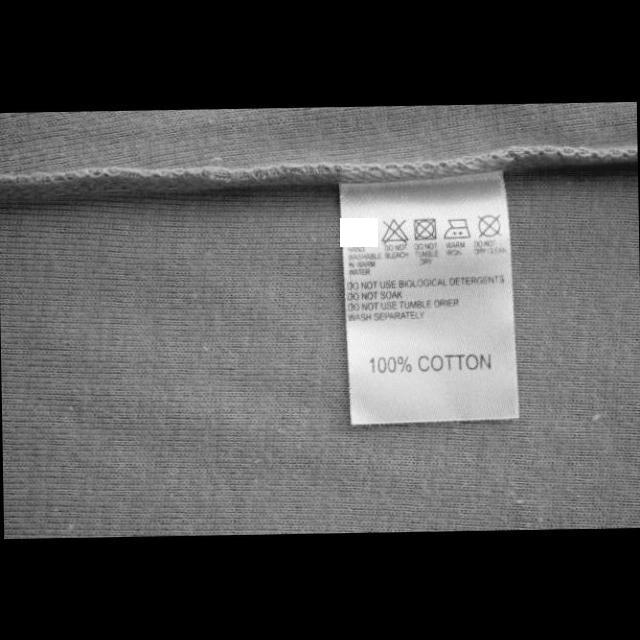DN_bleach: (380, 216, 410, 246)
DN_dry_clean: (474, 212, 504, 240)
DN_tumble_dry: (411, 215, 438, 241)
iron_medium: (442, 217, 472, 240)
